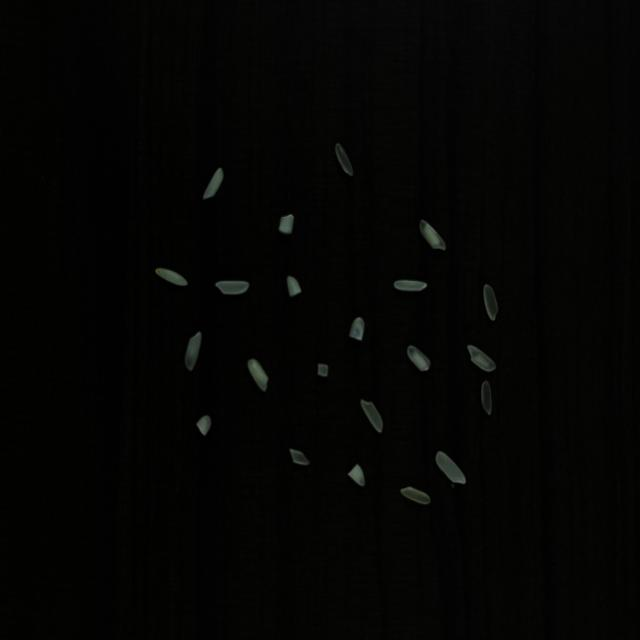Broken: (248, 359, 268, 392), (407, 346, 430, 371), (348, 464, 365, 486), (349, 317, 364, 341), (196, 414, 212, 436), (290, 449, 310, 465), (287, 276, 302, 297), (279, 214, 294, 234), (318, 364, 328, 376)
Full: (436, 450, 466, 484), (329, 143, 354, 177), (419, 220, 446, 251), (467, 344, 496, 372), (361, 399, 383, 433), (203, 168, 224, 200), (185, 331, 201, 371), (155, 268, 188, 286), (400, 486, 431, 505), (483, 285, 498, 321), (215, 280, 250, 294), (481, 380, 492, 415), (394, 280, 427, 291)
